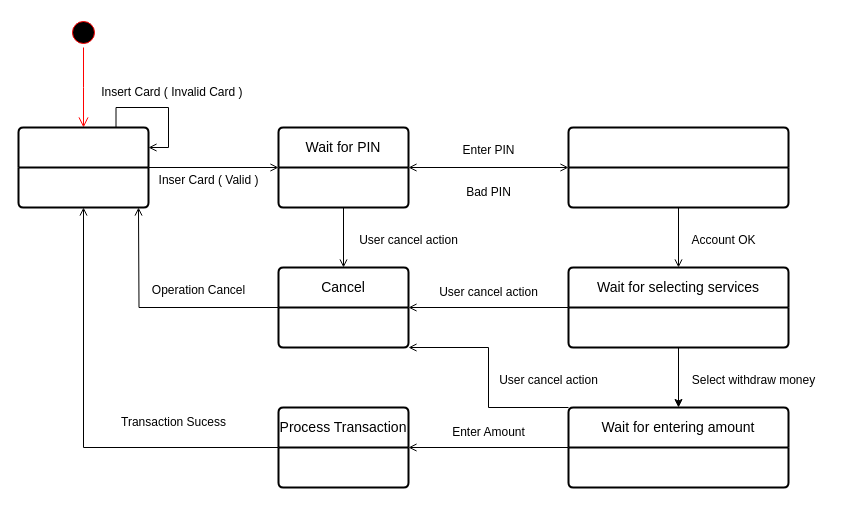
The diagram is 845 pixels wide and 506 high, and some of its shapes have lost their labels. Here are the shapes that lost their labels. From the top down, the centre of each, then its label:
At point (83, 167): "Main screen".
At point (678, 167): "Wait for account verification".
